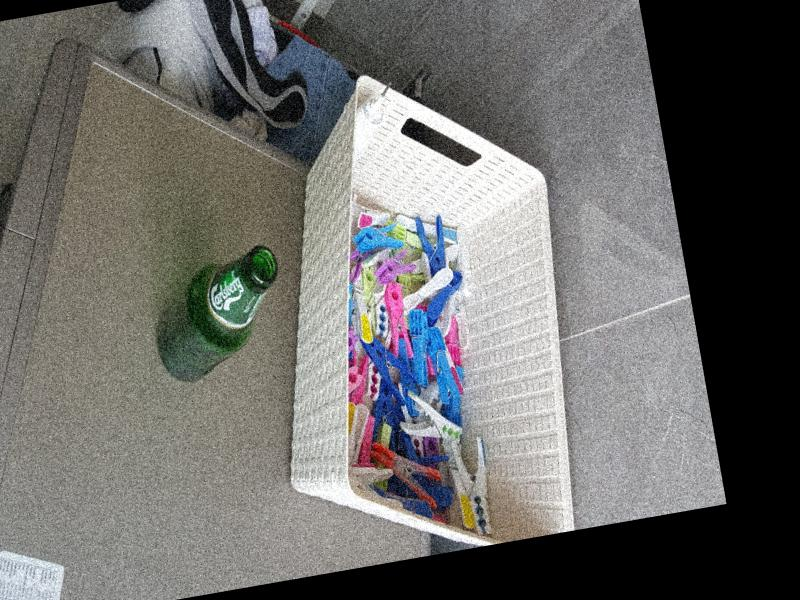Beer: (141, 242, 291, 384)
